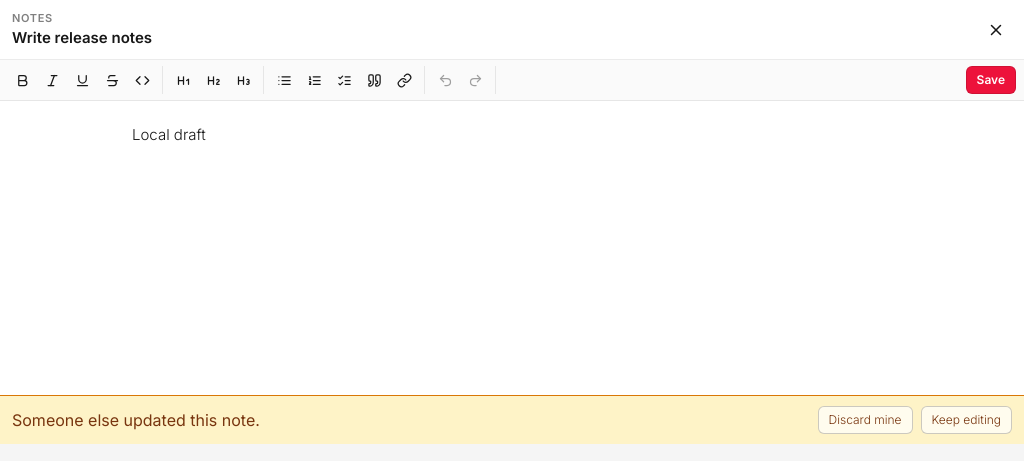
EditNotes › loads the server note and clears the conflict when discarding local edits
Expected: the message with test id "edit-notes-conflict" shows "Someone else updated this note.", [12,410,260,430]
Click the button "Discard mine": (865, 420) [818,406,912,434]
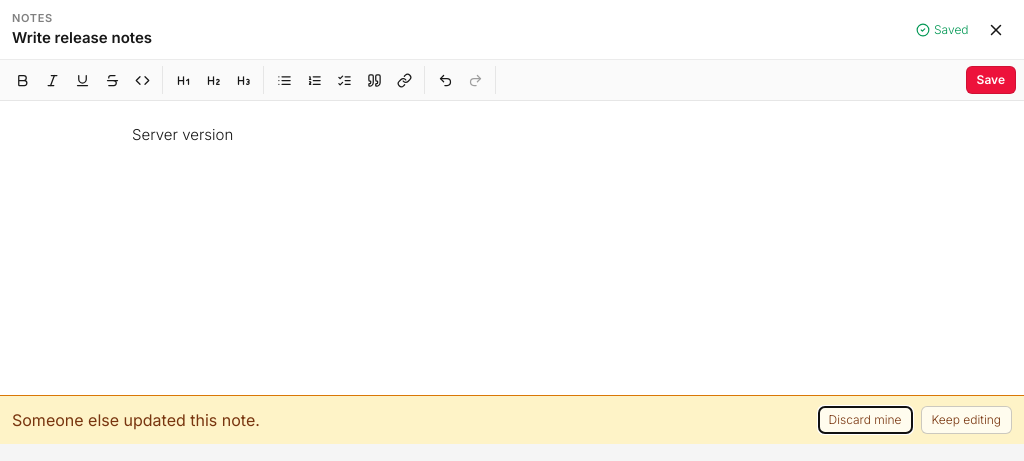
Expected: the field with test id "notes-editor-surface" reads "Server version", [132,125,233,144]
